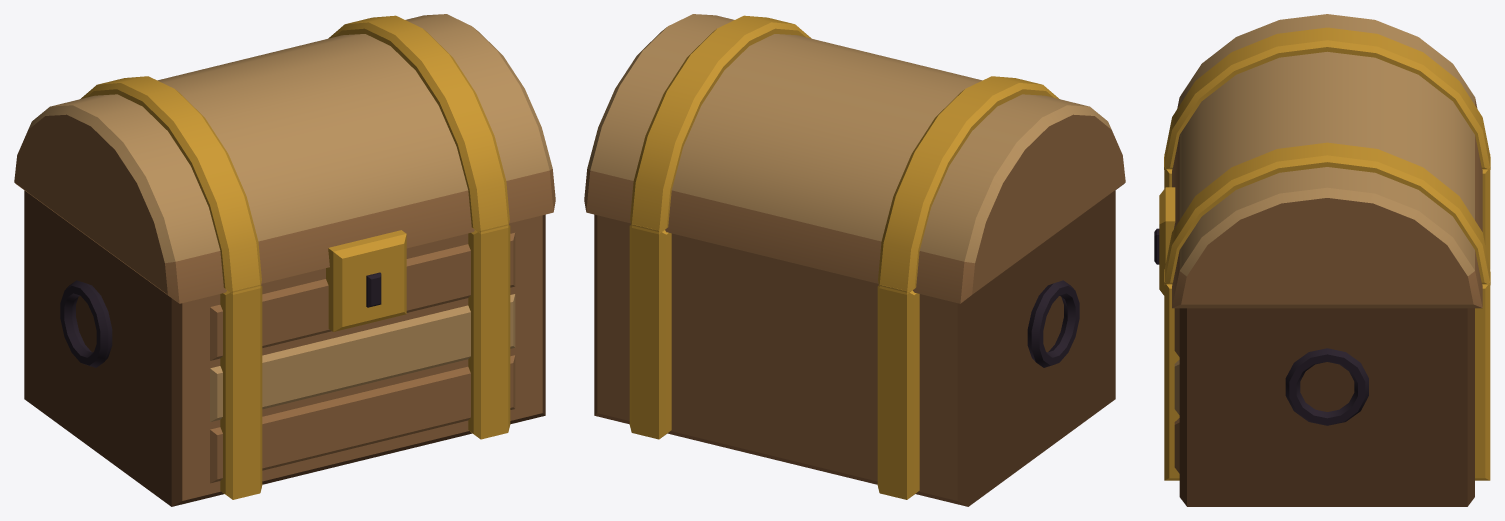
Rendered from Chest_03.glb.
3 views of the same model, side by side, from view 1: azimuth 30°, elevation 25°; view 2: azimuth 150°, elevation 25°; view 3: azimuth 270°, elevation 25° (orthographic). The views are drawn at different scales.
Visible parts, largest first — view 1: Chest_03; view 2: Chest_03; view 3: Chest_03.
Boxes of the visible parts, x1,y1,x2,y2 form: Chest_03: (14, 14, 555, 506); Chest_03: (584, 14, 1125, 506); Chest_03: (1154, 14, 1490, 506).
Size of the model in its own units: 3.56 by 2.87 by 2.66.
